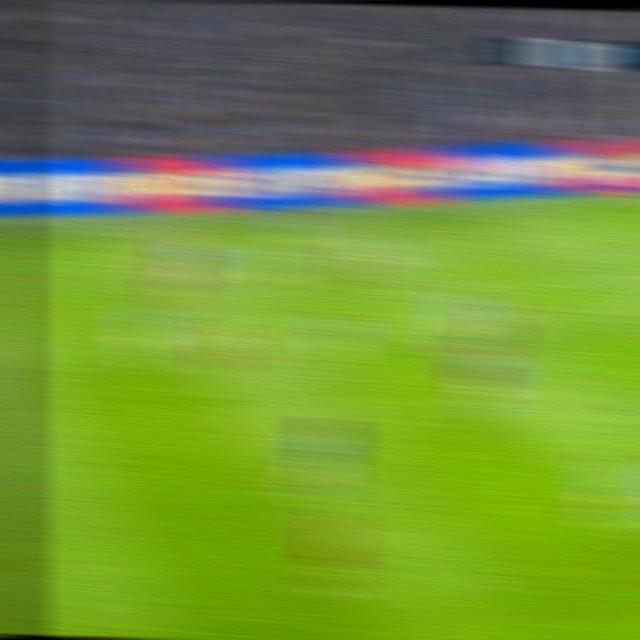bigarea_top_inner: (453, 276, 491, 298)
corner: (625, 189, 640, 205)
top_arc_area_intersection: (556, 360, 601, 387)
